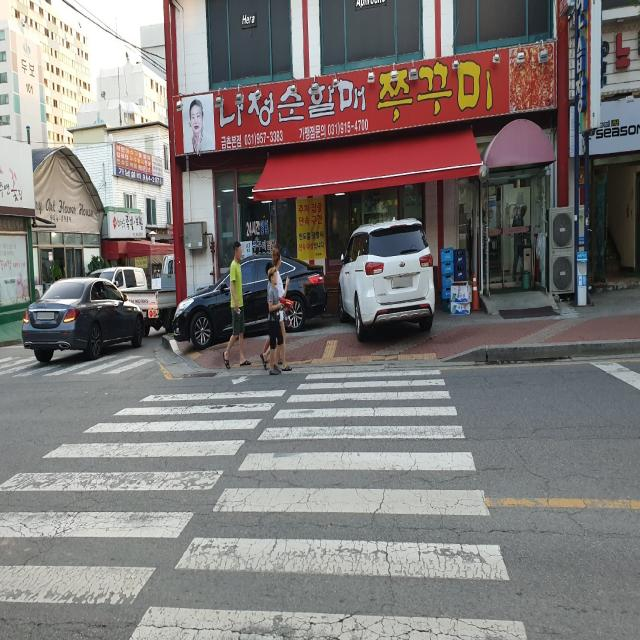횡단보도: (0, 369, 527, 639), (0, 357, 159, 375)
